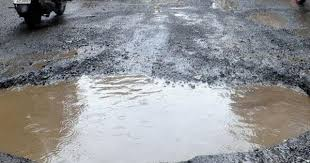potholes: (6, 45, 310, 162)
